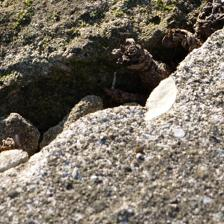Crack: (2, 9, 219, 167)
